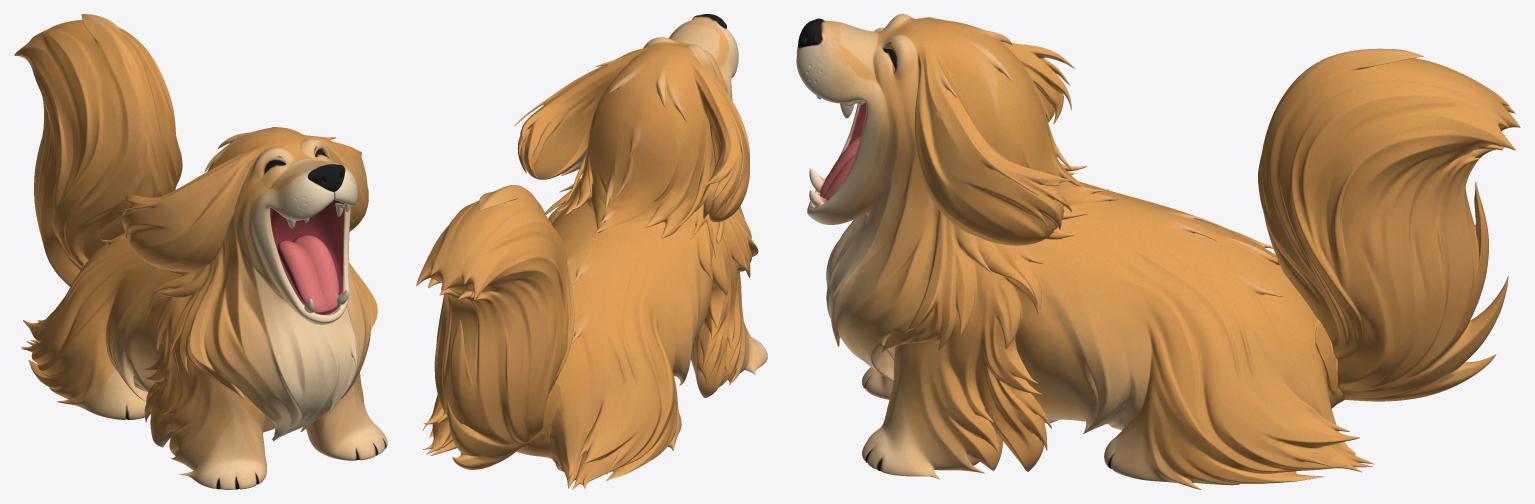
Rendered from Meshy_AI_Golden_Yawn_1005074643_texture.glb.
The picture shows the model from 3 angles, left to right: view 1: azimuth 30°, elevation 25°; view 2: azimuth 150°, elevation 25°; view 3: azimuth 270°, elevation 25°; orthographic projection. The views are drawn at different scales.
Size of the model in its own units: 0.8965 by 1.16 by 1.9.
1 material, 1 textured.
